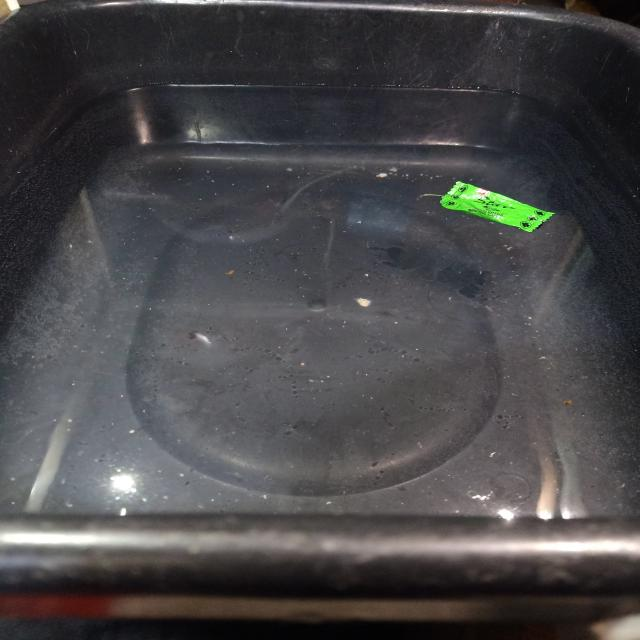Plastic Wrapper: (418, 168, 578, 259)
